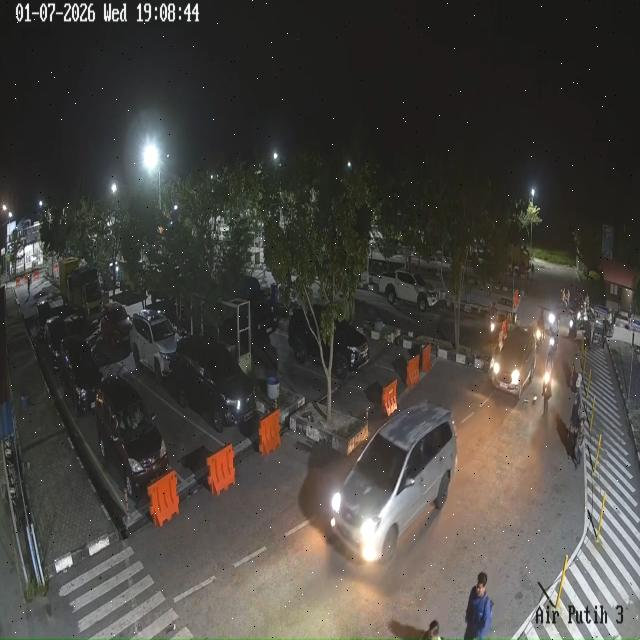Golongan IVA: (330, 401, 457, 563), (96, 376, 169, 498), (173, 336, 256, 432), (288, 304, 369, 380), (129, 310, 179, 382), (489, 326, 537, 398), (60, 335, 103, 415), (100, 301, 131, 346), (44, 316, 68, 370), (36, 300, 52, 340)
Golongan IVB: (378, 270, 439, 312)
Golongan VB: (59, 258, 108, 322)
